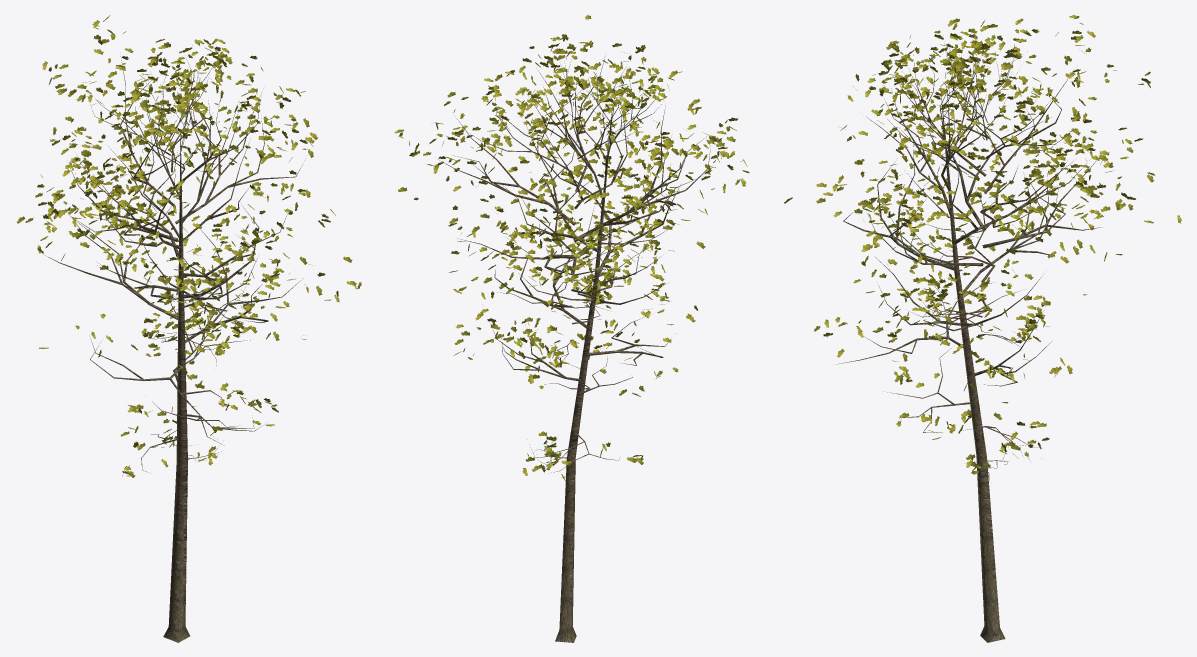
The model's file is treeset1.glb.
The picture shows the model from 3 angles, left to right: view 1: azimuth 30°, elevation 25°; view 2: azimuth 150°, elevation 25°; view 3: azimuth 270°, elevation 25°; orthographic projection. The views are drawn at different scales.
Parts seen in each view (by area): view 1: leaves, tree; view 2: leaves, tree; view 3: leaves, tree.
Boxes of the visible parts, bbox=[...] form: leaves: bbox=[17, 15, 361, 477]; tree: bbox=[43, 56, 307, 642]; leaves: bbox=[394, 15, 749, 481]; tree: bbox=[438, 56, 710, 642]; leaves: bbox=[784, 15, 1181, 474]; tree: bbox=[837, 43, 1102, 642].
Bounding box in the file's own units: 8.86 × 16.76 × 10.03.
2 materials, 2 textured.
